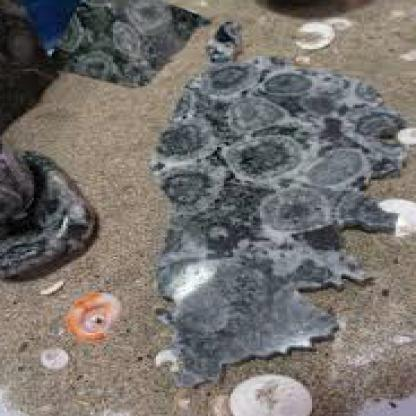Igneous_Diorite: (145, 36, 409, 377), (50, 0, 203, 81)
